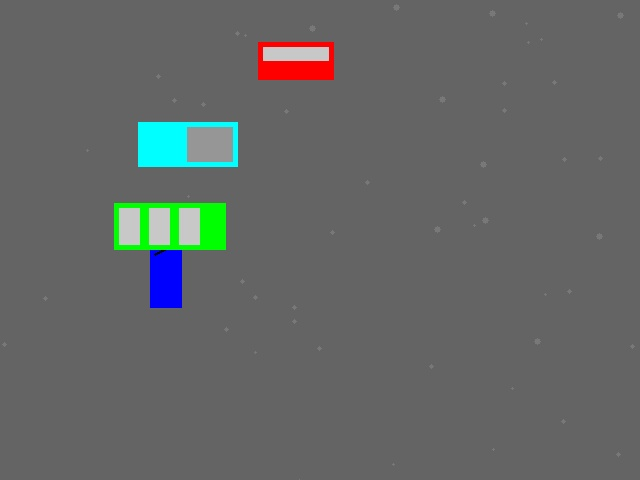bus: (114, 203, 225, 249)
car: (258, 42, 333, 79)
motorcycle: (150, 244, 181, 307)
truck: (138, 122, 237, 166)
